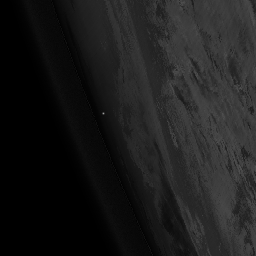Target: (101, 111, 106, 116)
